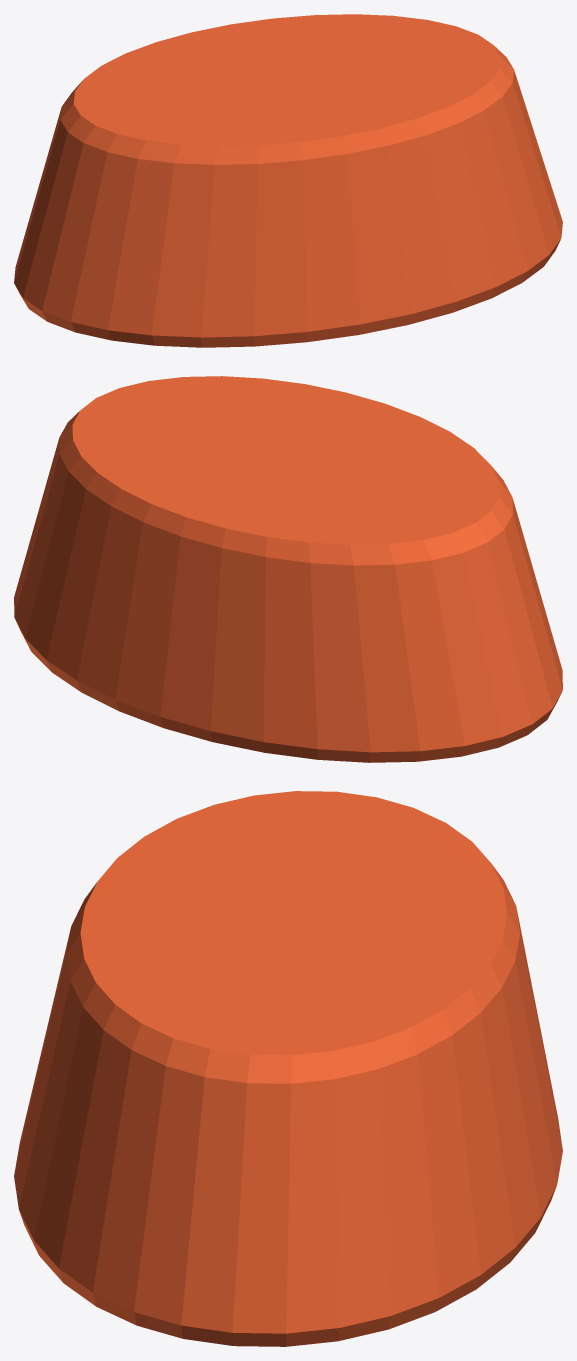
3 views of the same model, one above another, from view 1: azimuth 30°, elevation 25°; view 2: azimuth 150°, elevation 25°; view 3: azimuth 270°, elevation 25° (orthographic). The views are drawn at different scales.
Parts seen in each view (by area): view 1: Cylinder.025; view 2: Cylinder.025; view 3: Cylinder.025.
Boxes of the visible parts, x1,y1,x2,y2 form: Cylinder.025: (14,14,562,347); Cylinder.025: (14,376,562,762); Cylinder.025: (14,791,562,1346).
Bounding box in the file's own units: 13.5 × 4.96 × 9.26.
